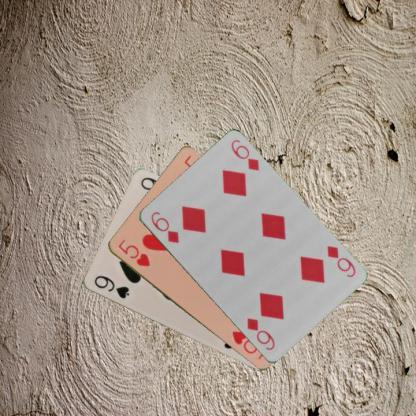5h: (113, 237, 152, 268)
6d: (148, 209, 180, 245), (324, 244, 356, 278)
9s: (91, 273, 131, 300)
